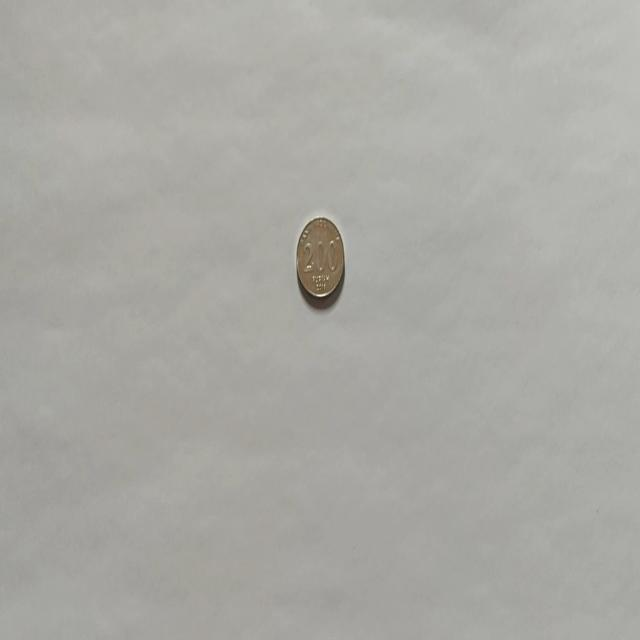dua ratus rupiah: (295, 214, 345, 300)
